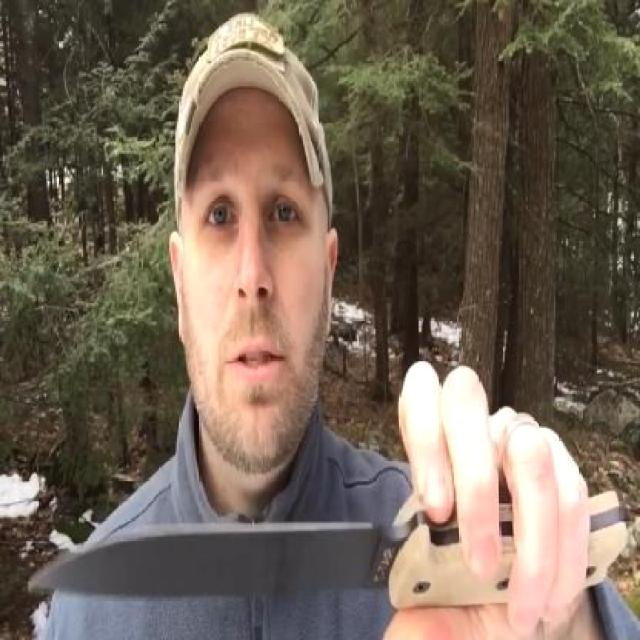knife: (19, 354, 562, 620)
